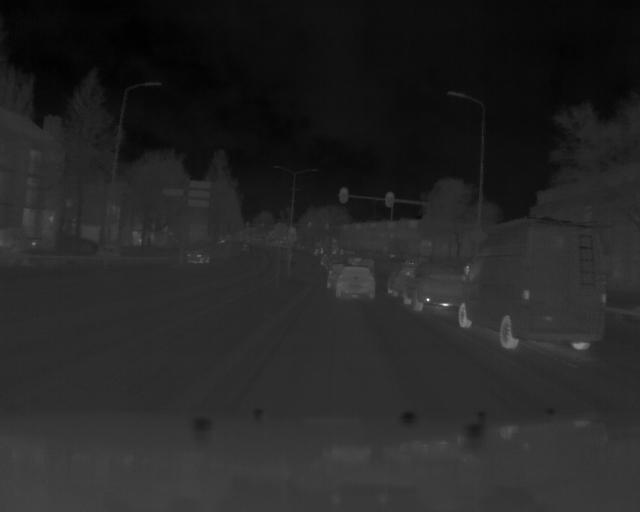car: (404, 261, 461, 317), (333, 262, 378, 303), (187, 245, 211, 265)
